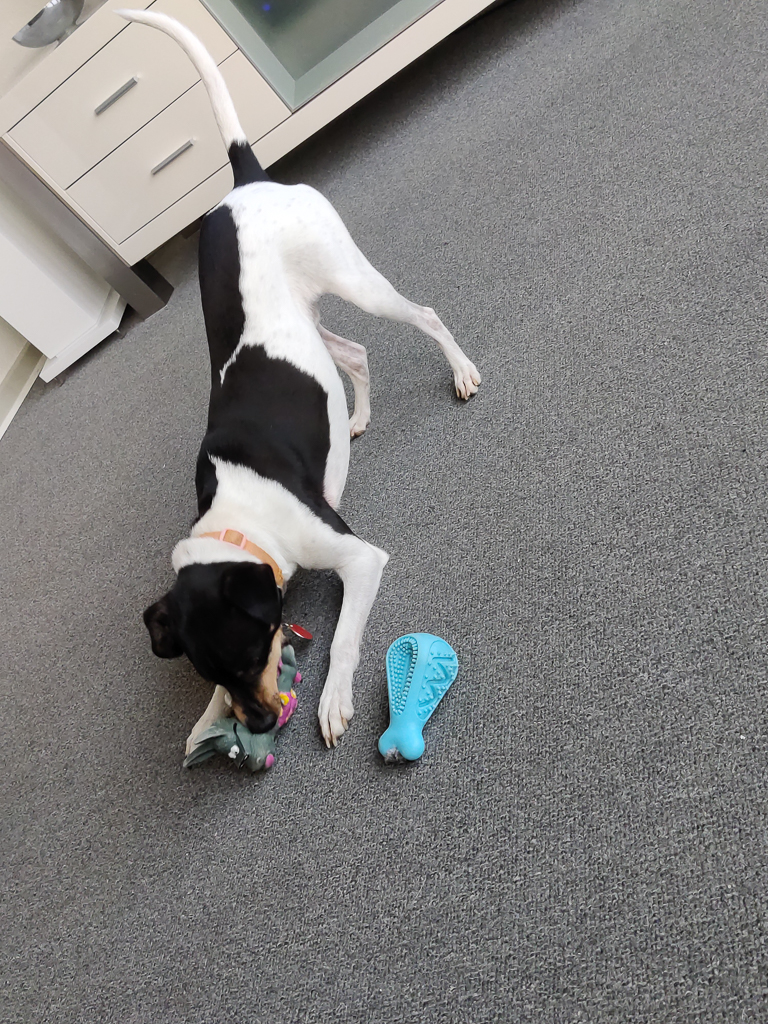Dog: (105, 0, 494, 784)
Humanoid: (177, 627, 309, 779)
